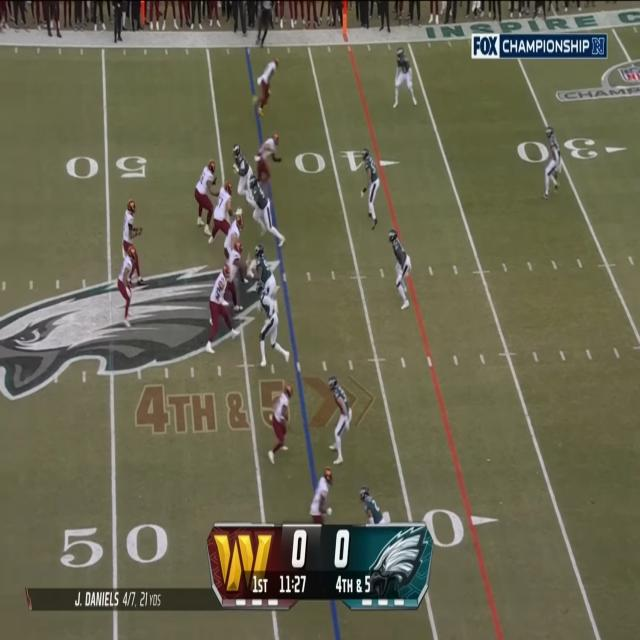Ball: (132, 224, 145, 237)
